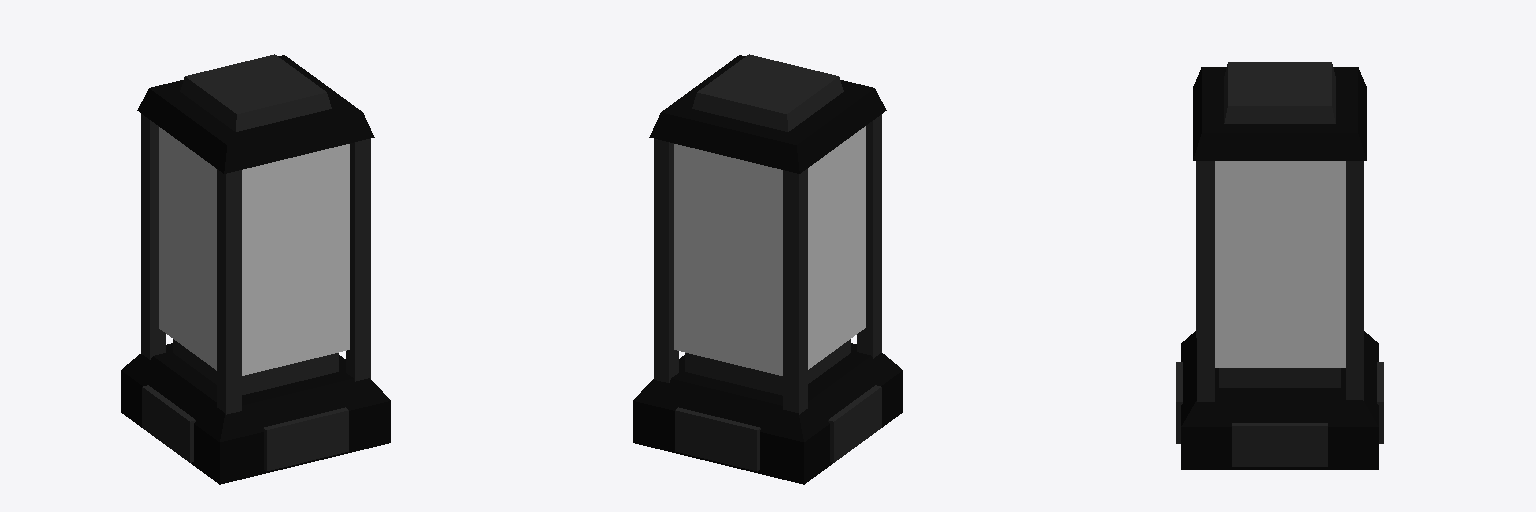
Rendered from lightSquare.obj.
3 renders of one model, left to right at view 1: azimuth 30°, elevation 25°; view 2: azimuth 150°, elevation 25°; view 3: azimuth 270°, elevation 25°, orthographic.
Parts seen in each view (by area): view 1: lightSquare_0; view 2: lightSquare_0; view 3: lightSquare_0.
Boxes of the visible parts, box(x1,y1,x2,y2) form: lightSquare_0: box(121, 54, 390, 484); lightSquare_0: box(633, 54, 902, 484); lightSquare_0: box(1176, 62, 1383, 469).
Size of the model in its own units: 0.2715 by 0.4948 by 0.2715.